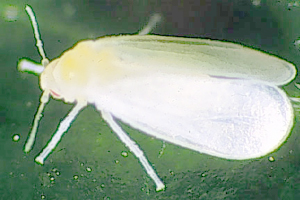whitefly: (18, 5, 298, 192)
